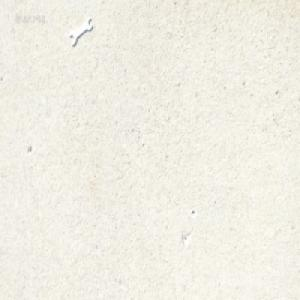Wrench: (69, 17, 92, 48)
